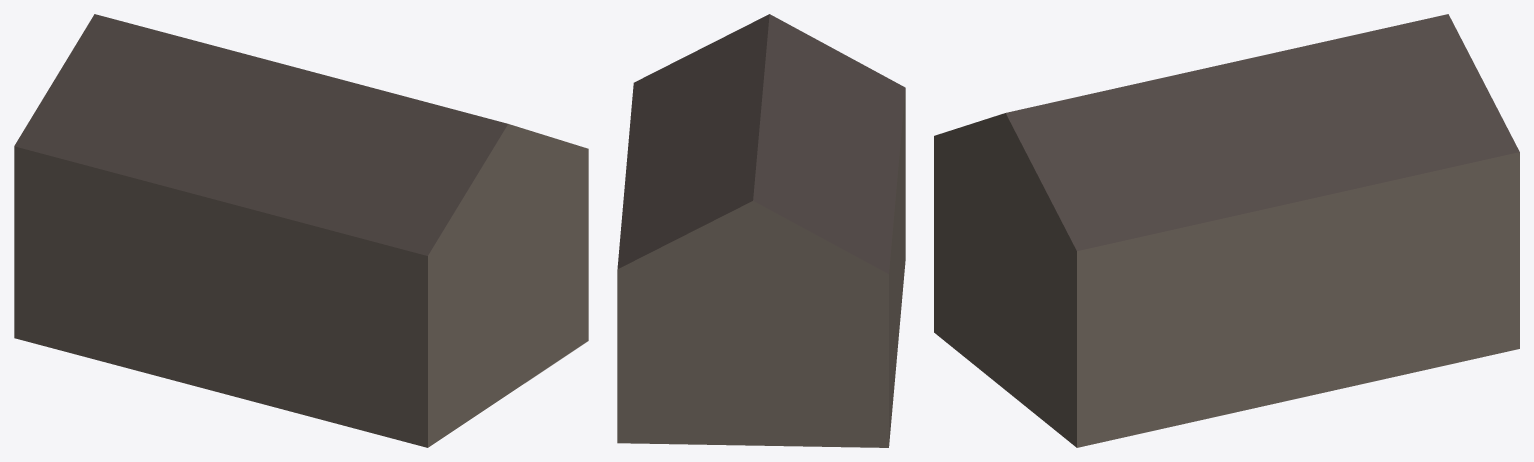
The picture shows the model from 3 angles, left to right: view 1: azimuth 30°, elevation 25°; view 2: azimuth 150°, elevation 25°; view 3: azimuth 270°, elevation 25°; orthographic projection. The views are drawn at different scales.
Parts seen in each view (by area): view 1: HP-w859082482; view 2: HP-w859082482; view 3: HP-w859082482.
Boxes of the visible parts, bbox=[...] form: HP-w859082482: bbox=[14, 14, 588, 447]; HP-w859082482: bbox=[617, 14, 905, 447]; HP-w859082482: bbox=[934, 14, 1519, 447].
Size of the model in its own units: 14.02 by 8.46 by 16.19.
